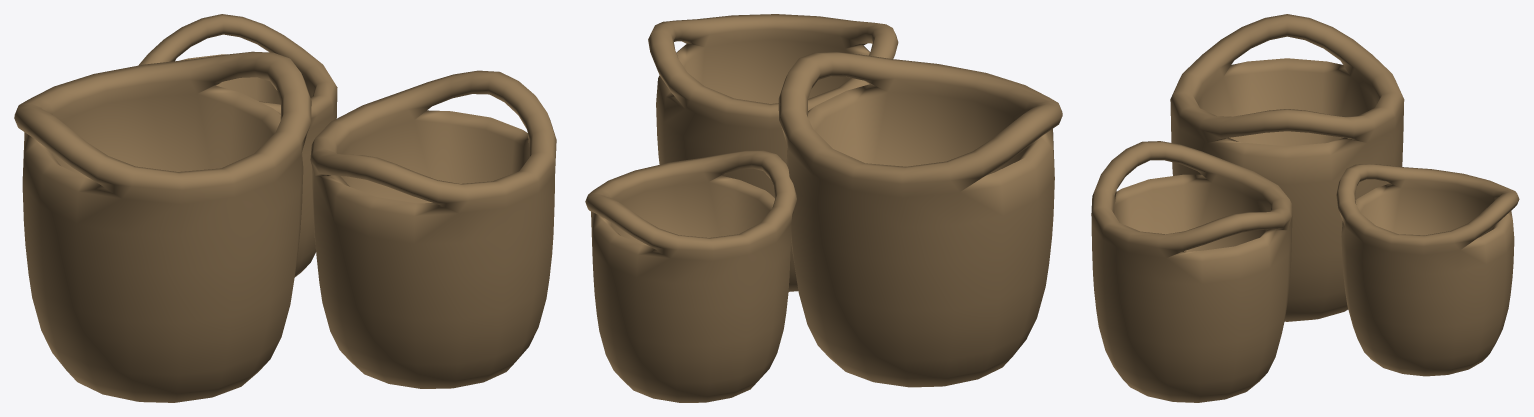
Rendered from CestasMenores.fbx.
The picture shows the model from 3 angles, left to right: view 1: azimuth 30°, elevation 25°; view 2: azimuth 150°, elevation 25°; view 3: azimuth 270°, elevation 25°; orthographic projection. The views are drawn at different scales.
Parts seen in each view (by area): view 1: CestasMenores; view 2: CestasMenores; view 3: CestasMenores.
Part boxes in pixels (x1,y1,x2,y2): CestasMenores: [14, 14, 556, 402]; CestasMenores: [585, 14, 1062, 402]; CestasMenores: [1091, 14, 1519, 402].
Size of the model in its own units: 91.04 by 53.65 by 90.45.
